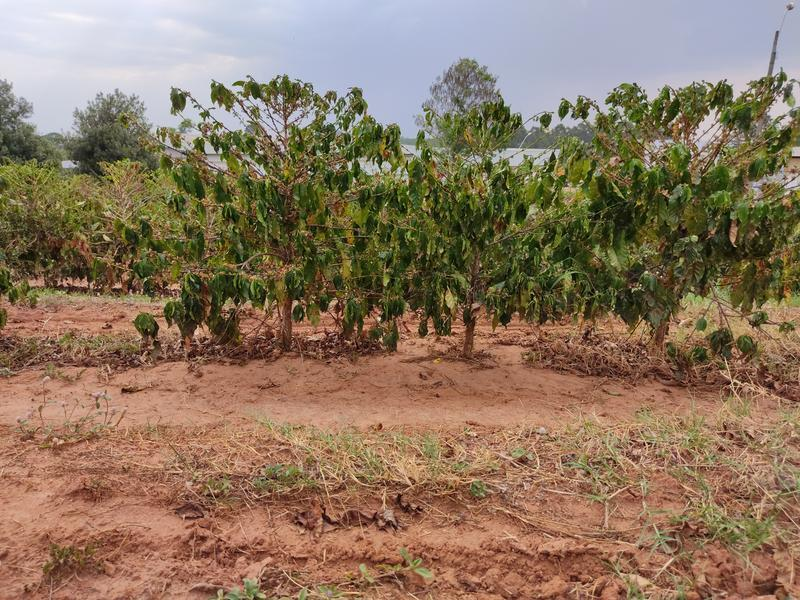coffee: (554, 66, 798, 393), (162, 68, 373, 386), (372, 100, 559, 392)
